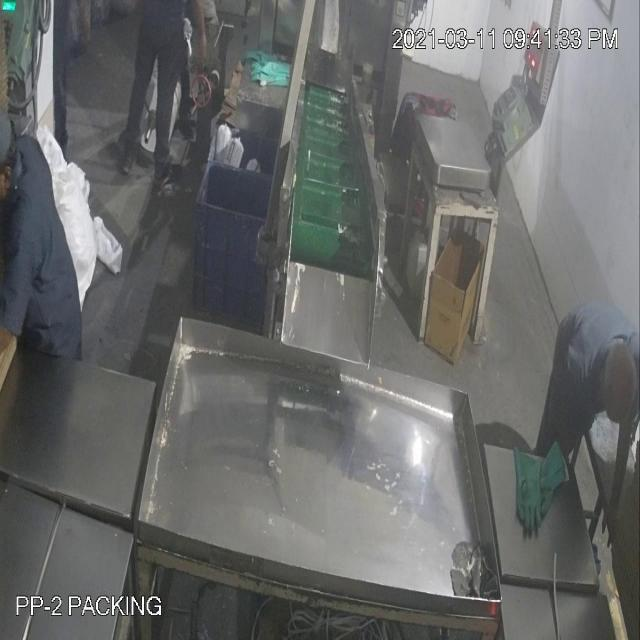No_Gloves: (598, 402, 632, 556)
